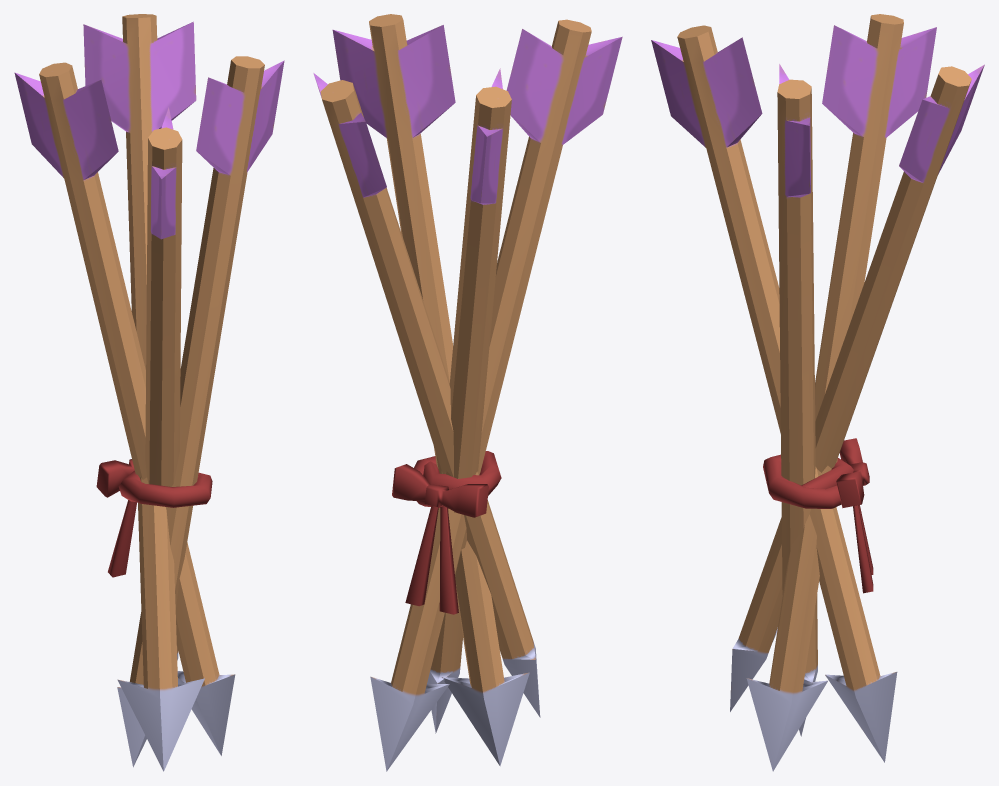
Rendered from Ammo_Arrows_Model.fbx.
The picture shows the model from 3 angles, left to right: view 1: azimuth 30°, elevation 25°; view 2: azimuth 150°, elevation 25°; view 3: azimuth 270°, elevation 25°; orthographic projection. The views are drawn at different scales.
Visible parts, largest first — view 1: pCube10; view 2: pCube10; view 3: pCube10.
Boxes of the visible parts, x1=… form: pCube10: x1=14, y1=14, x2=284, y2=771; pCube10: x1=313, y1=14, x2=622, y2=771; pCube10: x1=651, y1=14, x2=984, y2=771.
Bounding box in the file's own units: 0.3477 × 1.09 × 0.4657.
